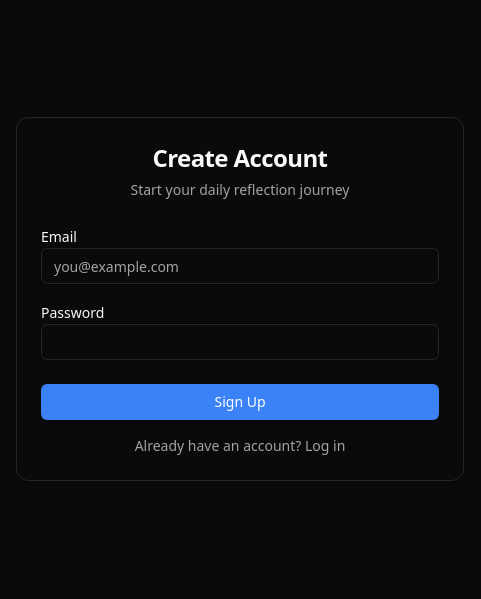
Scenario: SignupPage › shows validation error for weak password
Step 1. Type "test@example.com" into the field labelled "Email" → (240, 266), box x1=41 y1=248 x2=439 y2=284
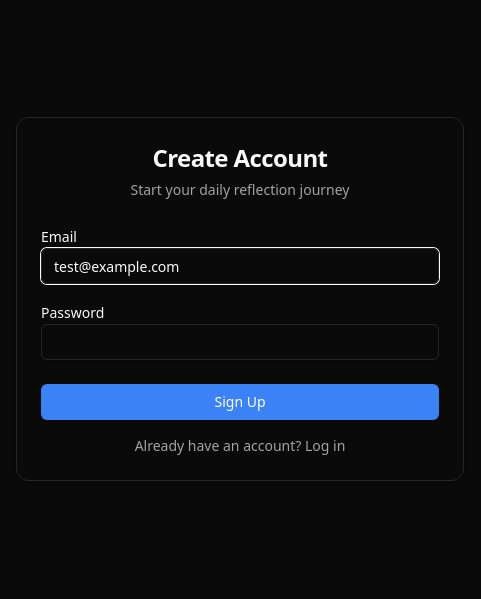
Step 2. Type "weak" into the password field labelled "Password" → (240, 342), box x1=41 y1=324 x2=439 y2=360
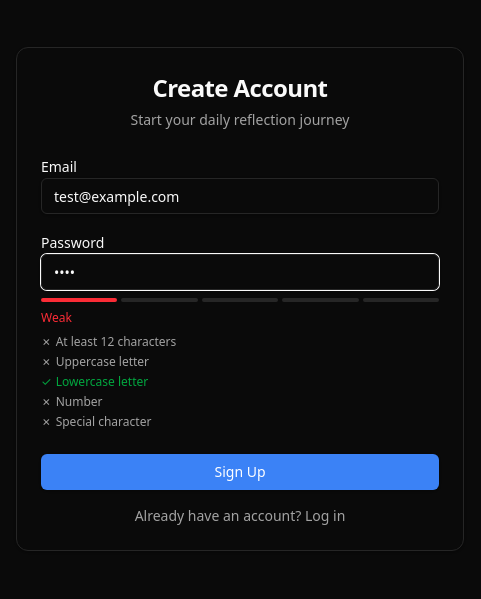
Step 3. Click the button "Sign Up" → (240, 472), box x1=41 y1=454 x2=439 y2=490
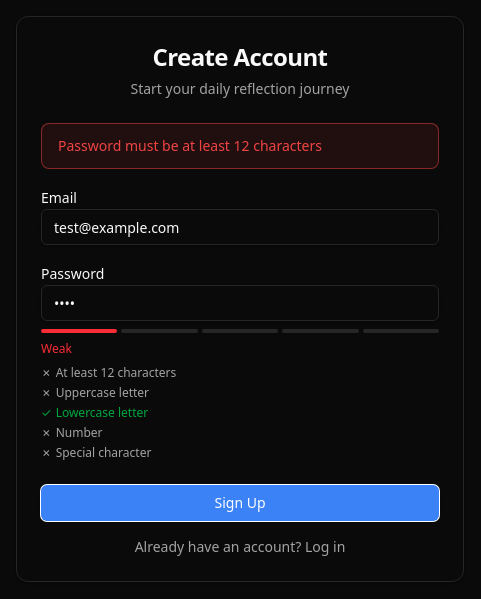
Now the text "Password must be at least 12 characters" is shown, box x1=41 y1=123 x2=439 y2=169
